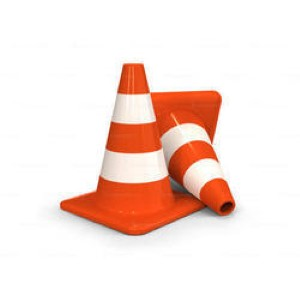traffic cone: (60, 63, 208, 235), (143, 90, 236, 216)
